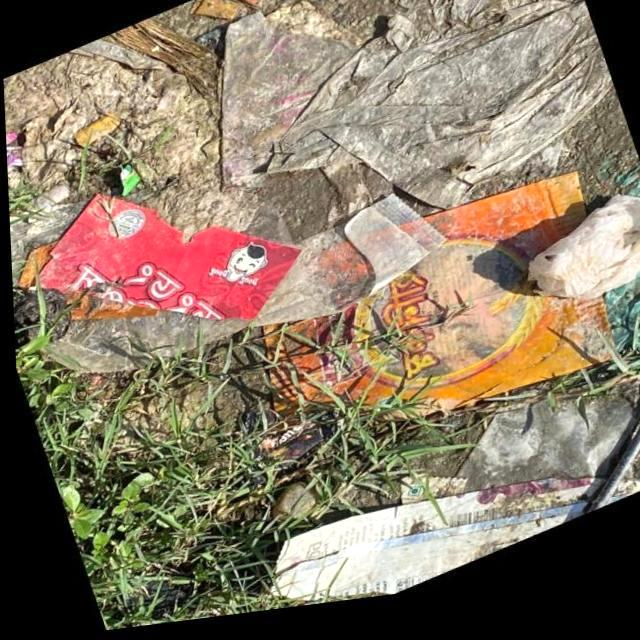packet: (300, 200, 583, 430), (35, 205, 272, 336)
